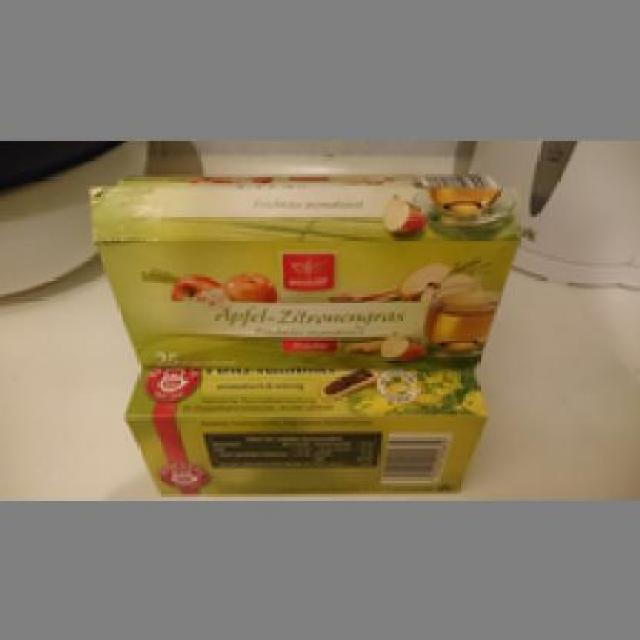Tea: (82, 172, 518, 368), (122, 366, 488, 497)
